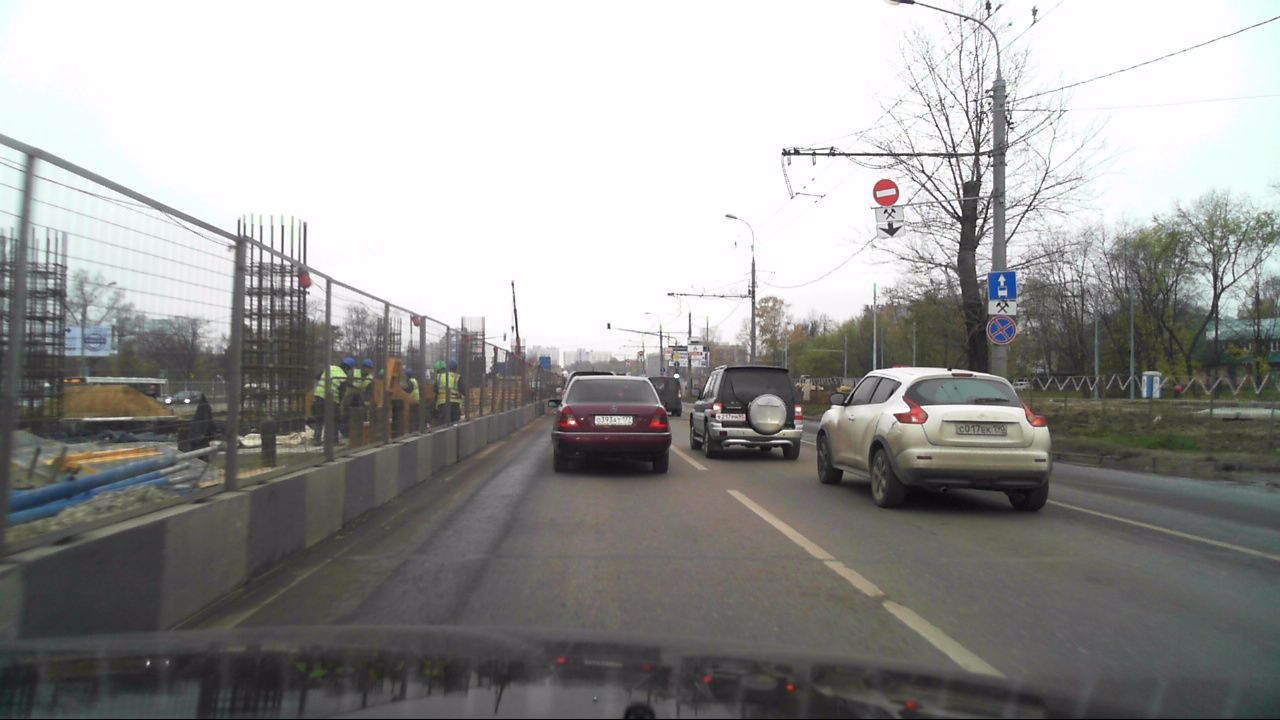No Parking: (986, 317, 1015, 344)
